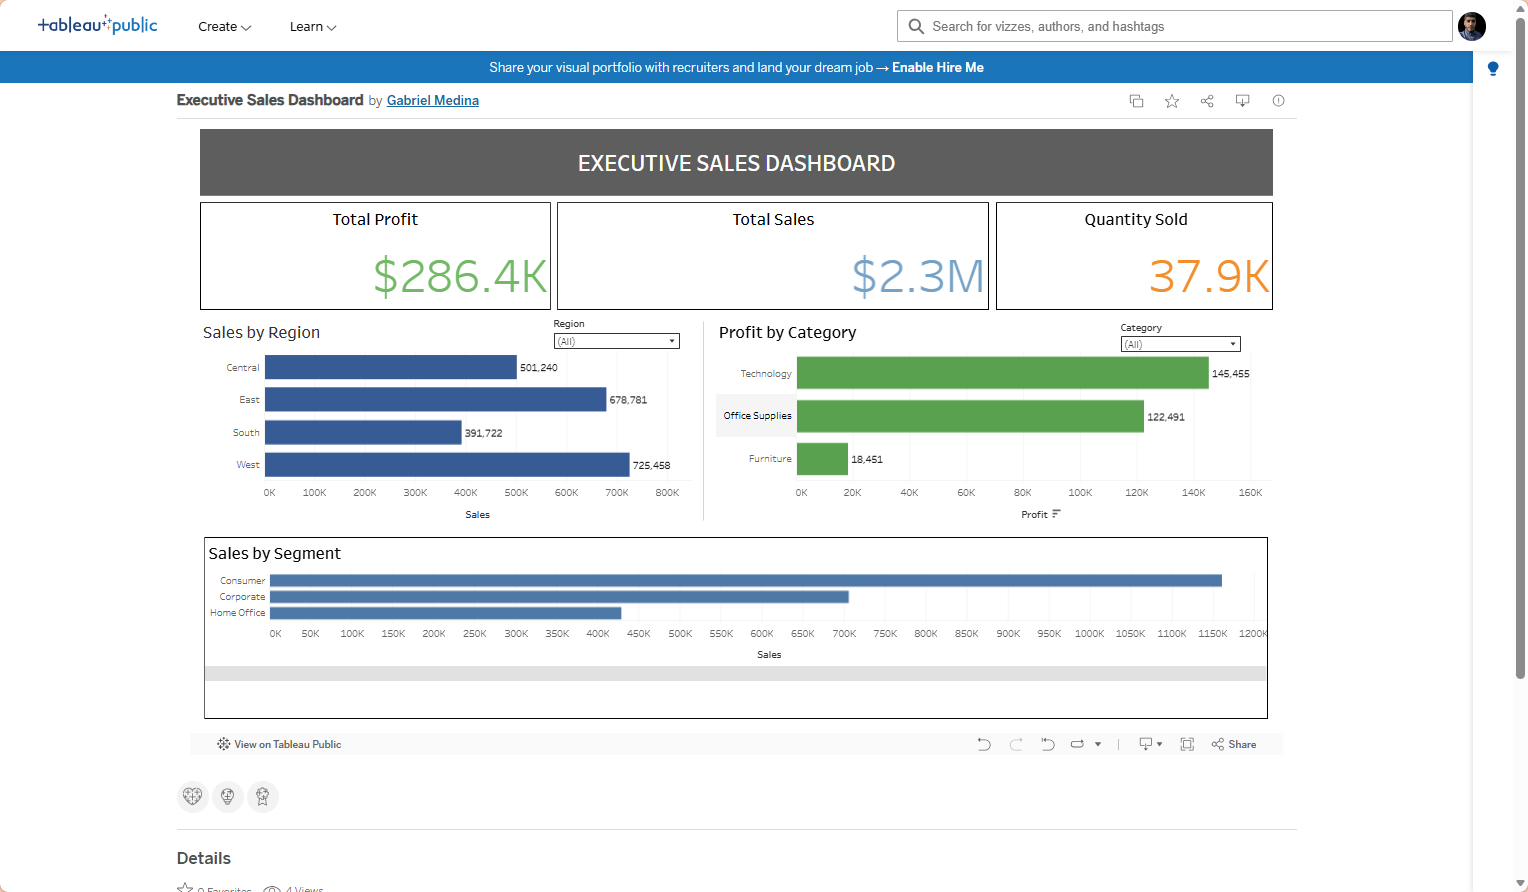

What the dashboard file says about the page in this screenshot:
{"tool":"tableau","page":{"name":"Executive Sales Dashboard","canvas":[1366,768],"ordinal":0},"visuals":[{"type":"text","box":[8,8,1350,92]},{"type":"worksheet","title":"Total Profit","mark":"Automatic","box":[8,100,447,143]},{"type":"worksheet","title":"Total Sales","mark":"Automatic","box":[455,100,548,143]},{"type":"worksheet","title":" Total Quantity Sold","mark":"Automatic","box":[1003,100,355,143]},{"type":"worksheet","title":"Sales by Region","mark":"Automatic","rows":["Region"],"cols":["Sales"],"box":[8,243,623,269]},{"type":"blank","box":[631,243,22,269]},{"type":"worksheet","title":"Profit by Category","mark":"Automatic","rows":["Category"],"cols":["Profit"],"box":[653,243,705,269]},{"type":"filter","title":"Sales by Region","param":"[federated.1sfr99a00z5zcu17smlmt0039s0n].[none:Region:nk]","box":[454,248,160,44]},{"type":"filter","title":"Profit by Category","param":"[federated.1sfr99a00z5zcu17smlmt0039s0n].[none:Category:nk]","box":[1159,248,160,52]},{"type":"worksheet","title":"Sales by Segment","mark":"Automatic","rows":["Segment"],"cols":["Sales"],"box":[8,512,1350,248]}]}

Visuals, with their boxes on the page's 1366x768 design canvas (x1, y1, x2, y2). These are canvas units, not pixel positions in the 1528x892 screenshot, which may show the page scaled, cropped or inside an application window:
text: 8 8 1358 100
"Total Profit" worksheet: 8 100 455 243
"Total Sales" worksheet: 455 100 1003 243
" Total Quantity Sold" worksheet: 1003 100 1358 243
"Sales by Region" worksheet: 8 243 631 512
blank: 631 243 653 512
"Profit by Category" worksheet: 653 243 1358 512
"Sales by Region" filter: 454 248 614 292
"Profit by Category" filter: 1159 248 1319 300
"Sales by Segment" worksheet: 8 512 1358 760
